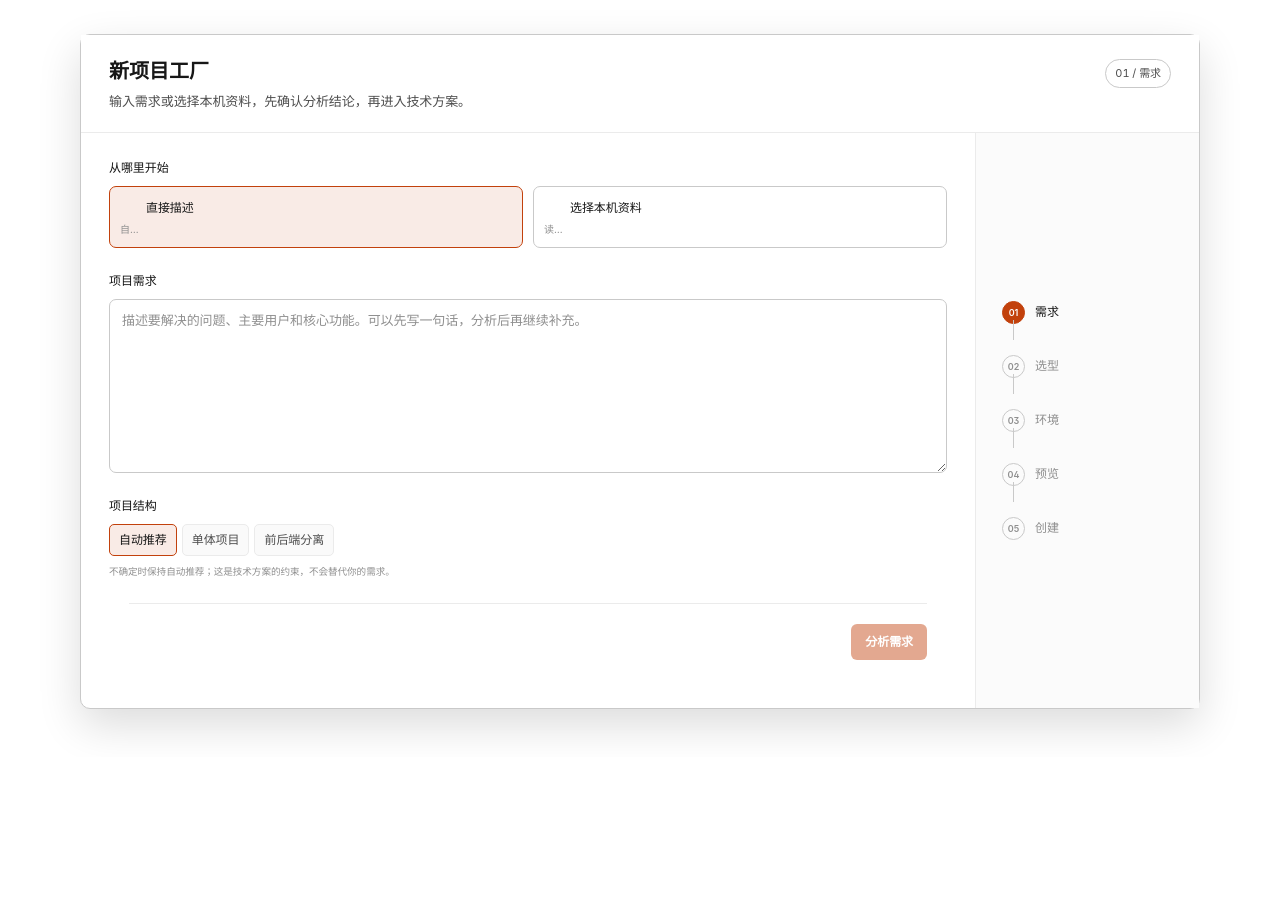
Test: ProjectFactoryView › keeps the first analysis on the input screen and only advances after user confirmation
The image size is (1280, 900).
In the text box labelled "项目需求": (528, 386) [109, 299, 947, 473], type "做一个订单管理后台"
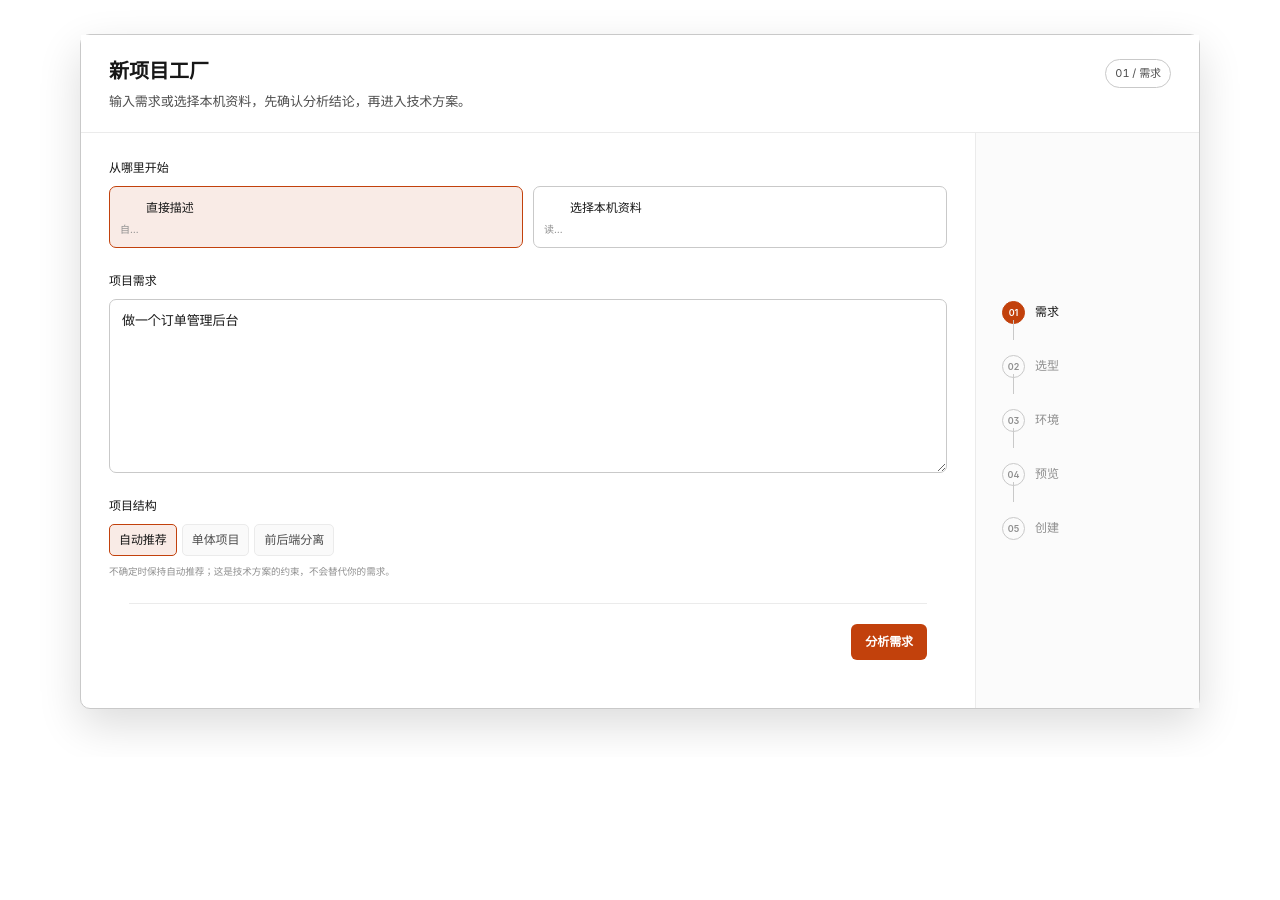
Click the button "分析需求": (889, 642) [851, 624, 927, 660]
(page scrolled)
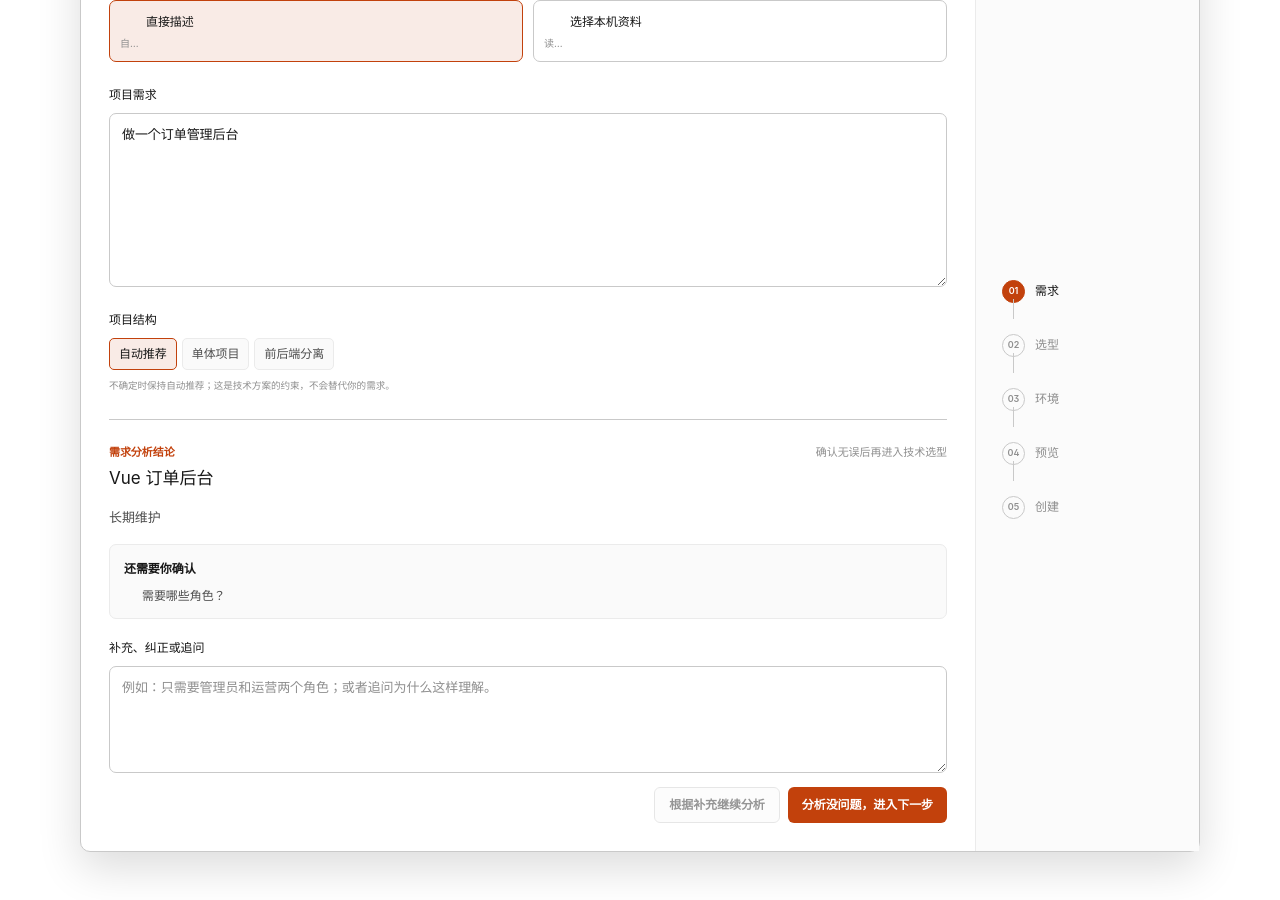
Expected: the text "推荐技术方案" is not shown
Expected: the text "需求分析结论" is shown, [109, 445, 175, 459]
Expected: the text "需要哪些角色？" is shown, [142, 588, 226, 603]
Click the button with test id "confirm-requirement-analysis": (867, 805) [788, 787, 947, 823]
(page scrolled)
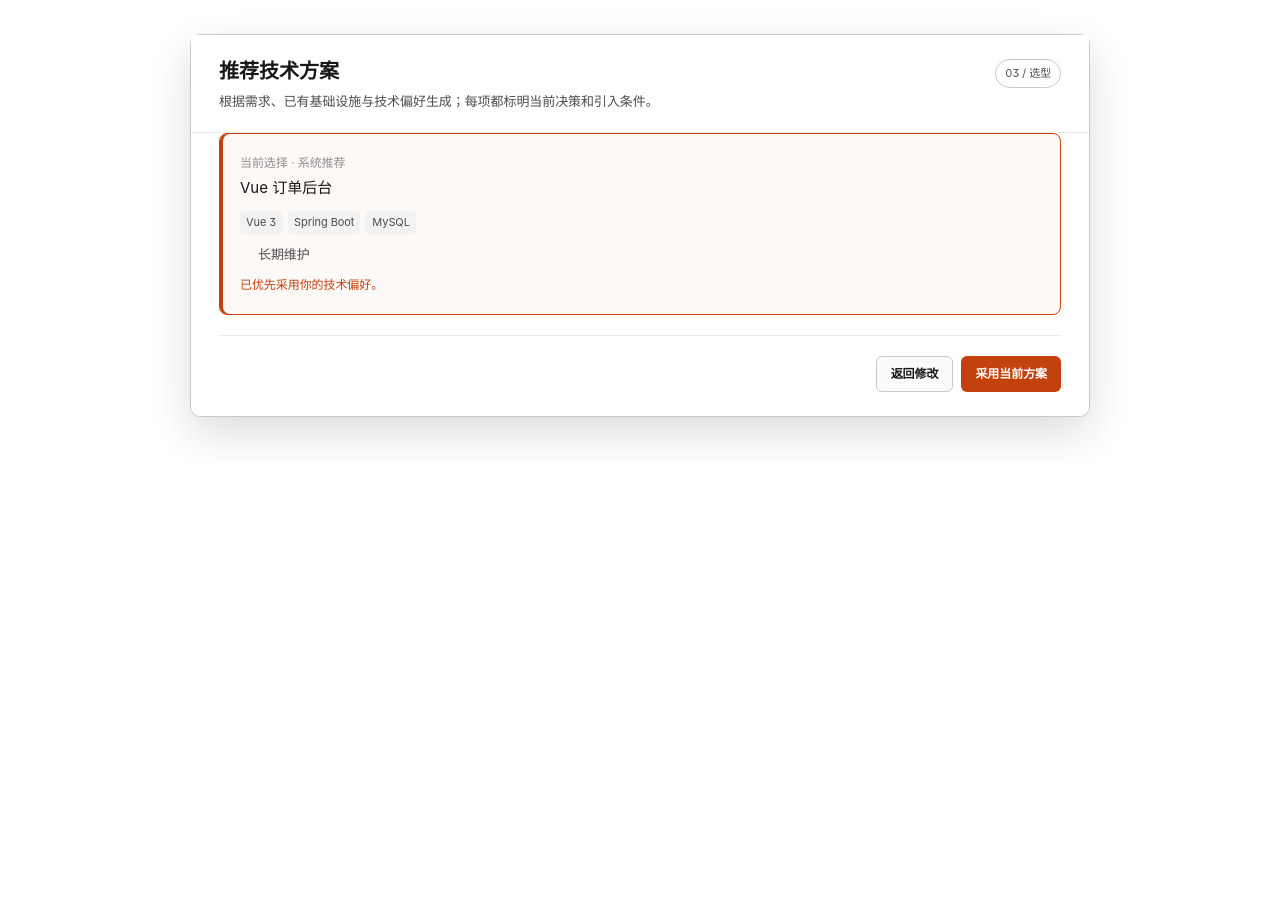
Expected: the text "推荐技术方案" is shown, [219, 59, 339, 83]
